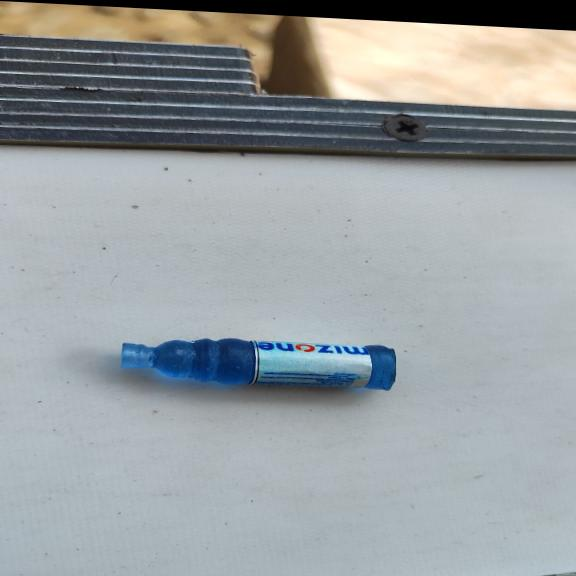Plastik: (120, 329, 398, 392)
